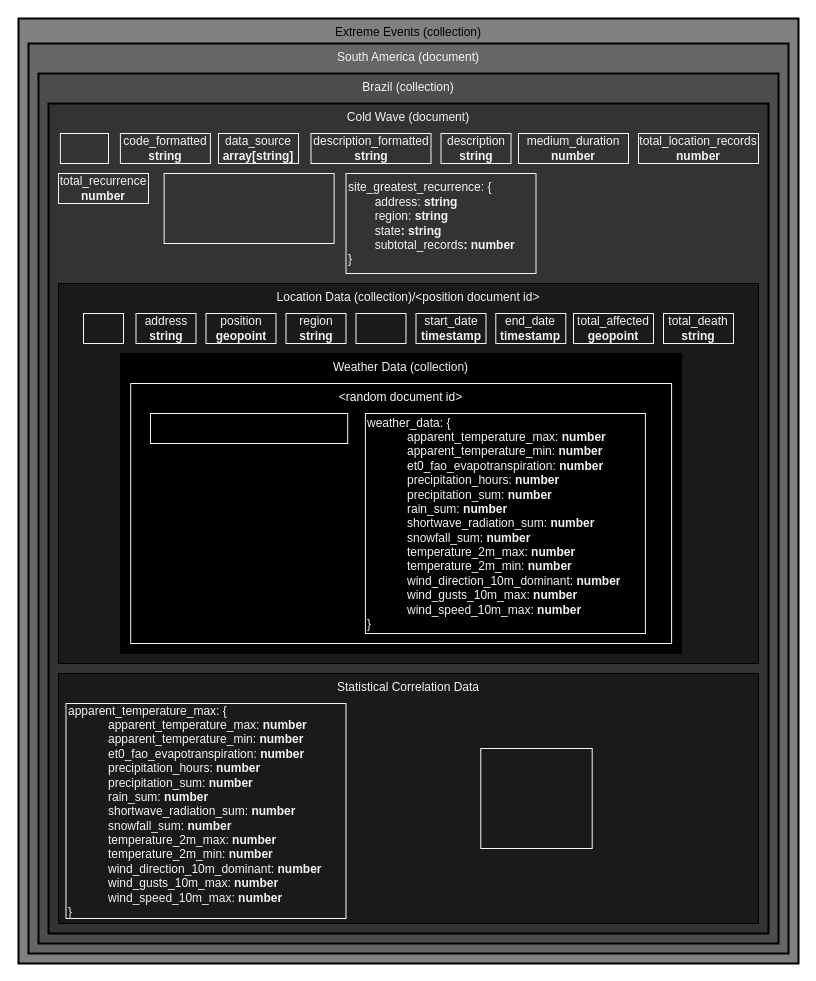
The diagram is 816 pixels wide and 981 high, and some of its shapes have lost their labels. The centre of each missing label's shape, as x and y in pixels:
code number: point (83, 148)
date_ocurred timestamp: point (249, 428)
Estrutura aplicada para cada variável: point (536, 798)
id string: point (103, 328)
region_greatest_recurrence: { recurrence: number region: s tring }: point (248, 208)
state string: point (380, 328)
